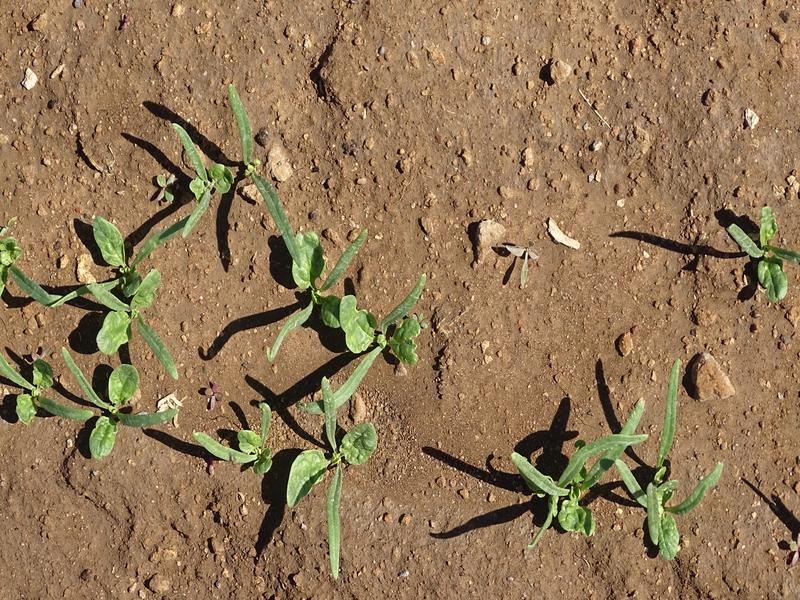Espinaca: (516, 365, 723, 566), (13, 213, 189, 442), (269, 220, 440, 382), (225, 391, 381, 563), (184, 113, 283, 226), (739, 210, 800, 296)
